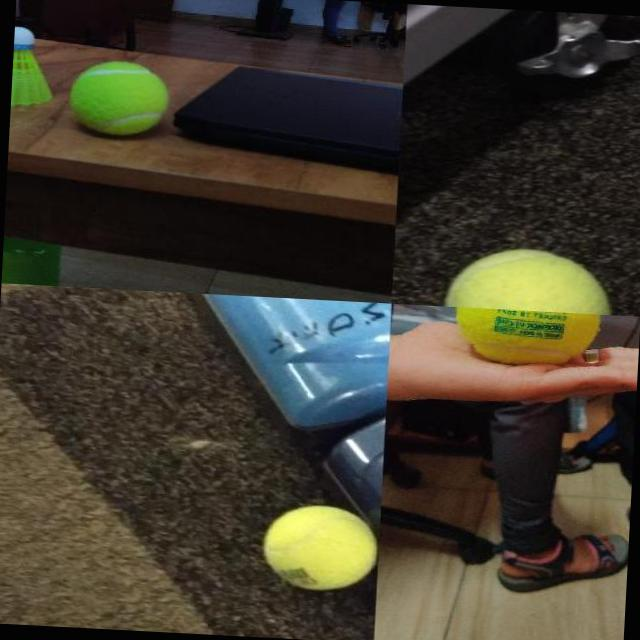Tennis Ball: (444, 244, 616, 314), (260, 502, 380, 594), (454, 308, 600, 366), (70, 60, 170, 136)
